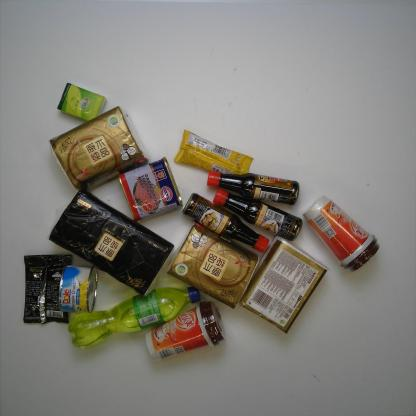Canned Food: (112, 156, 188, 224), (52, 260, 100, 316)
Chocolate: (172, 123, 257, 184)
Drink: (63, 283, 207, 349)
Instant Drink: (296, 191, 382, 276), (145, 300, 230, 364), (17, 244, 77, 327)
Seasoner: (180, 192, 272, 254), (209, 190, 306, 242), (206, 162, 301, 207)
Tissue: (40, 186, 178, 298), (45, 104, 151, 196), (238, 230, 330, 335), (167, 215, 265, 309), (54, 80, 107, 122)
